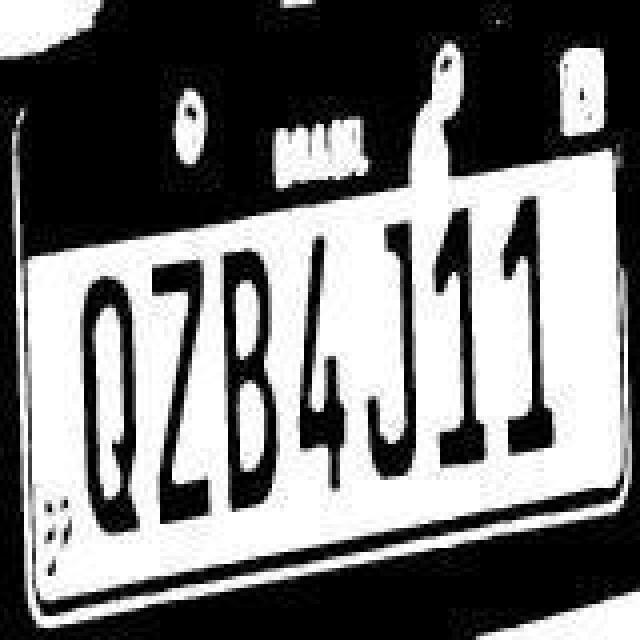1: (504, 196, 576, 476), (434, 198, 494, 482)
4: (292, 214, 356, 522)
B: (210, 242, 286, 526)
J: (364, 204, 428, 500)
Q: (74, 264, 150, 552)
Z: (144, 248, 216, 544)
